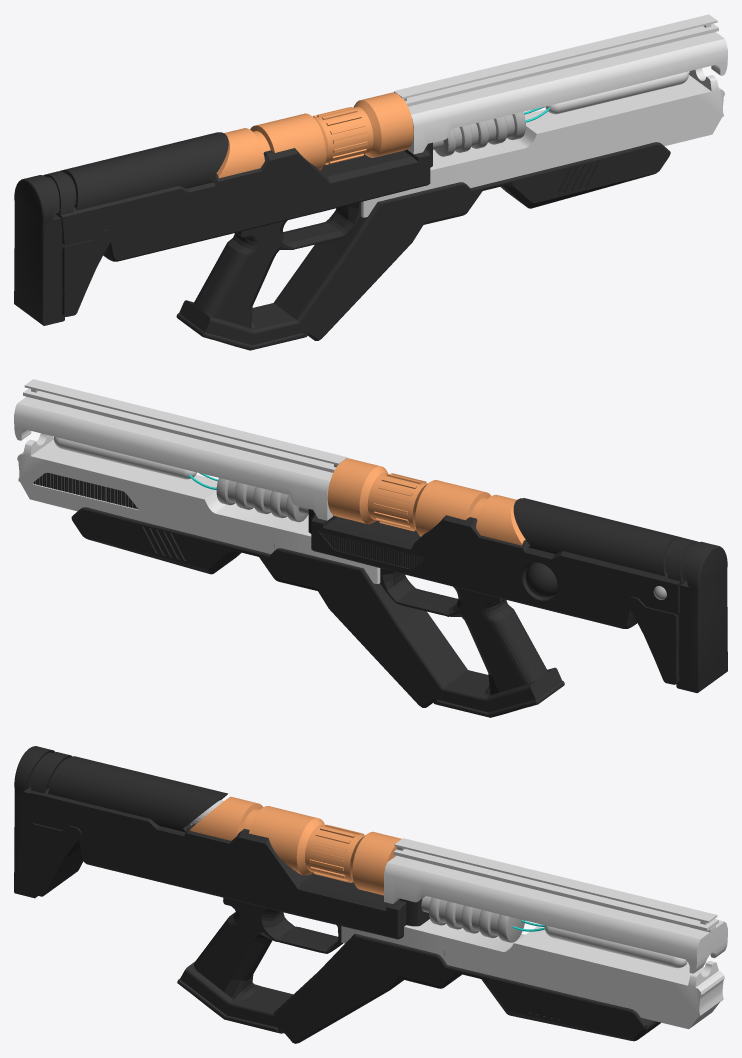
Rendered from sci-fi Shotgun correct angle.fbx.
The picture shows the model from 3 angles, top to bottom: view 1: azimuth 30°, elevation 25°; view 2: azimuth 150°, elevation 25°; view 3: azimuth 330°, elevation 25°; orthographic projection.
Parts seen in each view (by area): view 1: Cube.010, Cube, Cube.011, Cube.003, Cylinder, Cylinder.001, Cylinder.002, Cube.008, Cube.005, Cube.002, Cylinder.005, Sphere; view 2: Cube.010, Cube, Cube.011, Cube.003, Cylinder, Cylinder.001, Cylinder.002, Cube.008, Cube.005, Cube.002, Cylinder.005, Sphere (+3 smaller); view 3: Cube.010, Cube, Cube.011, Cube.003, Cylinder, Cylinder.001, Cube.008, Cube.005, Cube.002, Cylinder.002, Cylinder.005, Sphere (+1 smaller).
Boxes of the visible parts, <box> form: Cube.010: <box>176,142,670,350</box>; Cube: <box>55,148,430,261</box>; Cube.011: <box>361,68,724,217</box>; Cube.003: <box>408,32,727,154</box>; Cylinder: <box>216,92,413,178</box>; Cylinder.001: <box>43,132,228,215</box>; Cylinder.002: <box>14,175,64,325</box>; Cube.008: <box>394,14,717,98</box>; Cube.005: <box>405,23,718,106</box>; Cube.002: <box>62,229,113,316</box>; Cylinder.005: <box>433,112,525,156</box>; Sphere: <box>545,71,688,114</box>; Cube.010: <box>71,507,564,717</box>; Cube: <box>311,514,686,628</box>; Cube.011: <box>17,433,380,583</box>; Cube.003: <box>14,397,333,520</box>; Cylinder: <box>327,458,525,545</box>; Cylinder.001: <box>513,498,698,581</box>; Cylinder.002: <box>676,541,727,692</box>; Cube.008: <box>24,379,347,464</box>; Cube.005: <box>23,388,335,472</box>; Cube.002: <box>626,597,679,684</box>; Cylinder.005: <box>216,478,308,522</box>; Sphere: <box>53,436,196,479</box>; Cube.010: <box>177,897,660,1043</box>; Cube: <box>31,788,406,939</box>; Cube.011: <box>341,919,724,1029</box>; Cube.003: <box>384,855,727,973</box>; Cylinder: <box>190,796,401,895</box>; Cylinder.001: <box>26,752,227,832</box>; Cube.008: <box>394,838,717,922</box>; Cube.005: <box>393,849,718,931</box>; Cube.002: <box>31,823,83,896</box>; Cylinder.002: <box>14,746,54,898</box>; Cylinder.005: <box>421,896,524,942</box>; Sphere: <box>544,925,687,968</box>.
Size of the model in its own units: 336 by 103 by 31.9.
